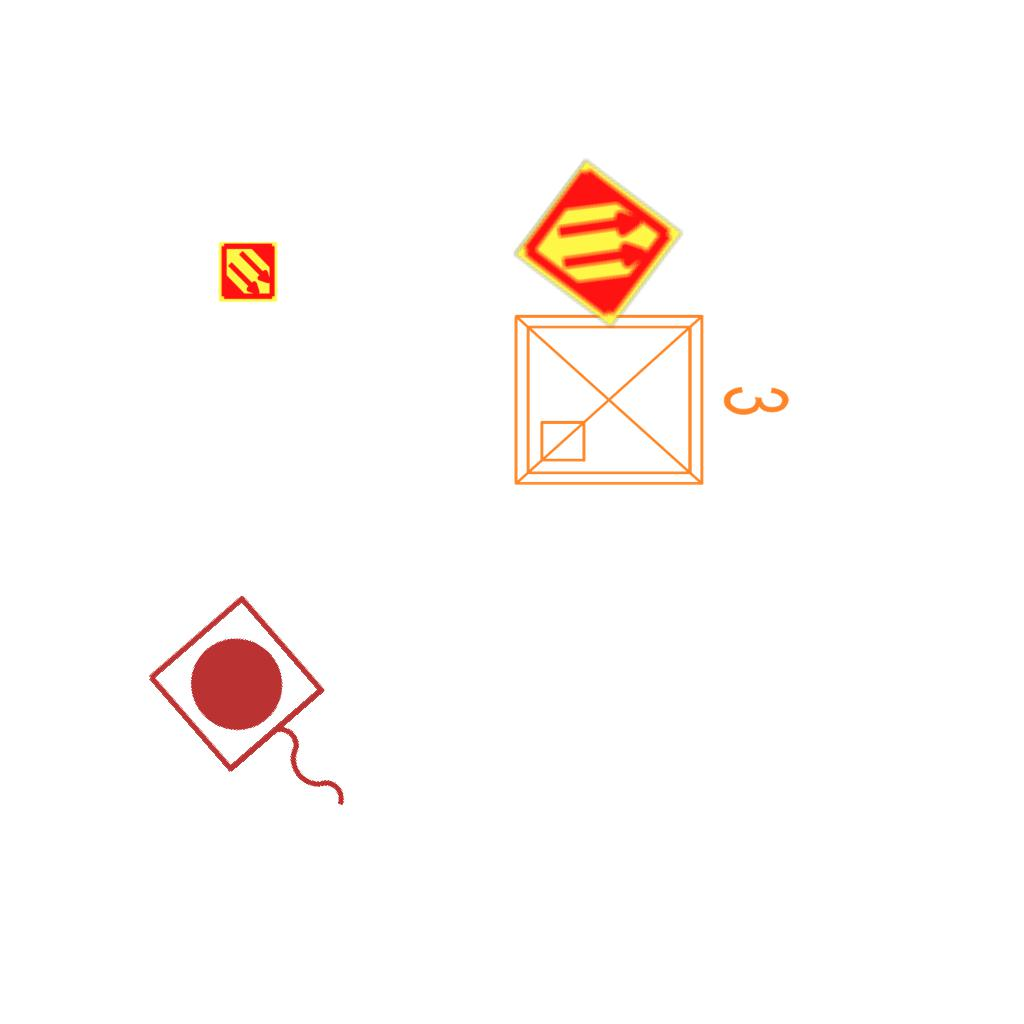ASR_Ansaugrauchmelder: (510, 155, 687, 332), (217, 241, 279, 303)
Einbaudownlights_LED_Konferenzraeume: (500, 292, 800, 500)
Zugtaster: (133, 583, 403, 863)
